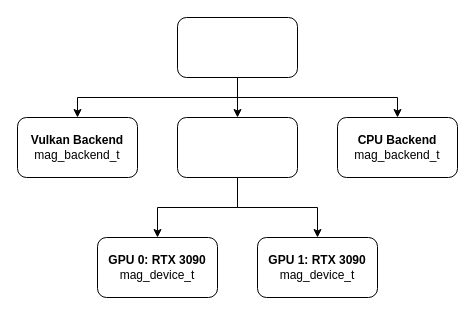
Image size: 475x315. Some labels were removed from this diagram. Here are the shapes that lost their labels. From the top down, the box of each, then its label:
(176, 16, 298, 78): Context mag_context_t
(176, 116, 298, 178): CUDA Backend mag_backend_t
